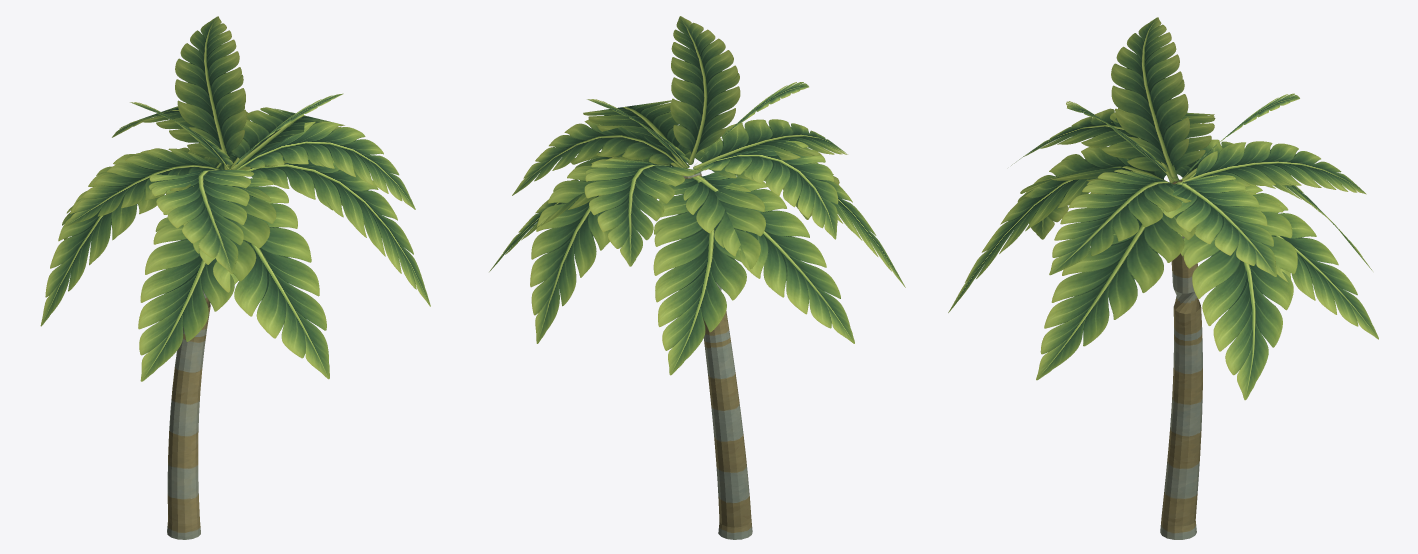
File: palm2_a_liked_frond_v3.glb
3 views of the same model, side by side, from view 1: azimuth 30°, elevation 25°; view 2: azimuth 150°, elevation 25°; view 3: azimuth 270°, elevation 25° (orthographic). The views are drawn at different scales.
Visible parts, largest first — view 1: palm2_a_liked_frond_v3; view 2: palm2_a_liked_frond_v3; view 3: palm2_a_liked_frond_v3.
Boxes of the visible parts, left/top/right/bottom form: palm2_a_liked_frond_v3: left=40, top=16, right=430, bottom=539; palm2_a_liked_frond_v3: left=489, top=16, right=905, bottom=539; palm2_a_liked_frond_v3: left=948, top=17, right=1378, bottom=539.
Bounding box in the file's own units: 3.77 × 4.34 × 3.77.
2 materials, 2 textured.
